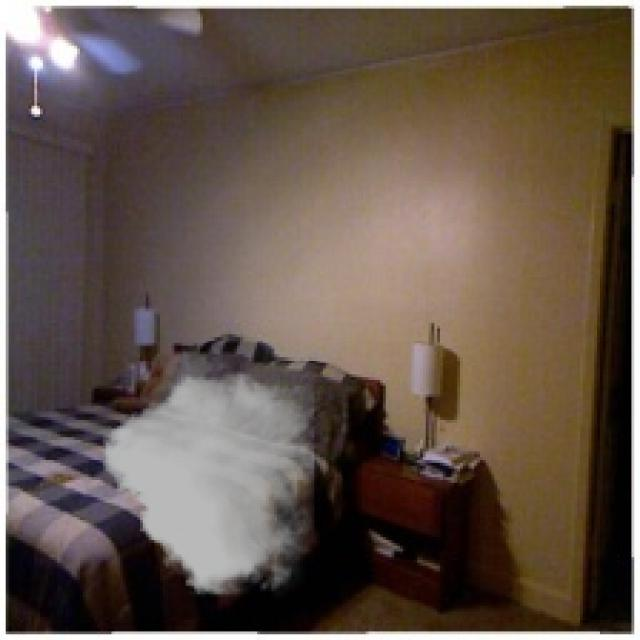smoke: (103, 343, 314, 600)
